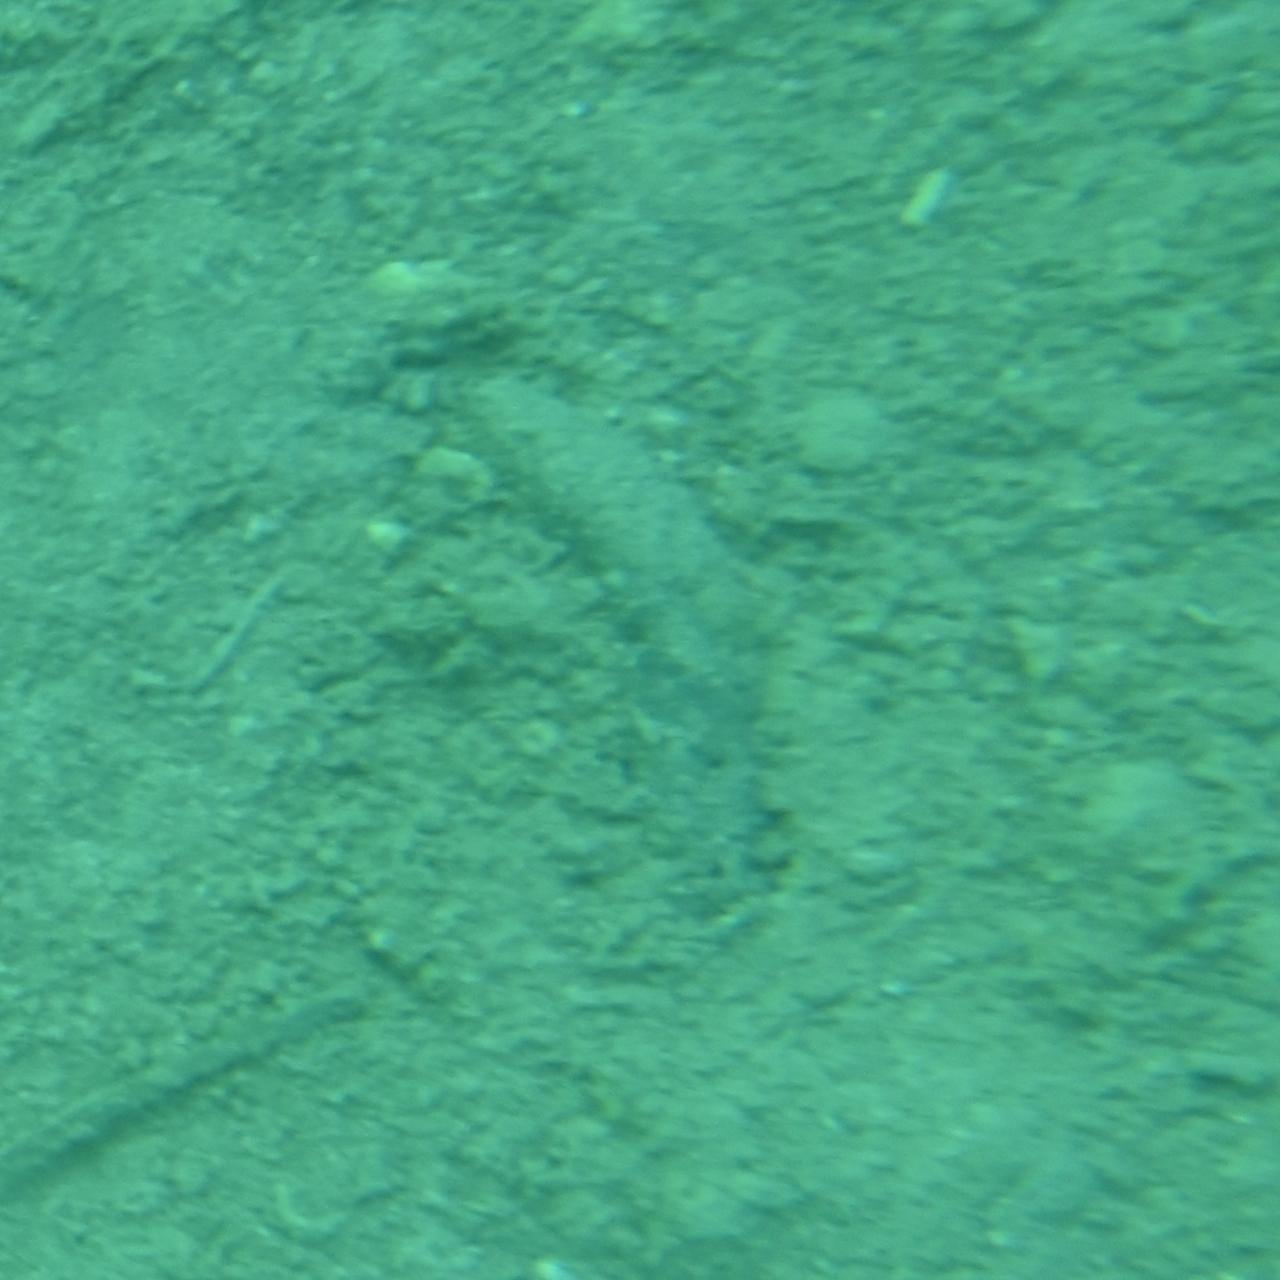Holothuria tubulosa: (449, 352, 831, 928)
